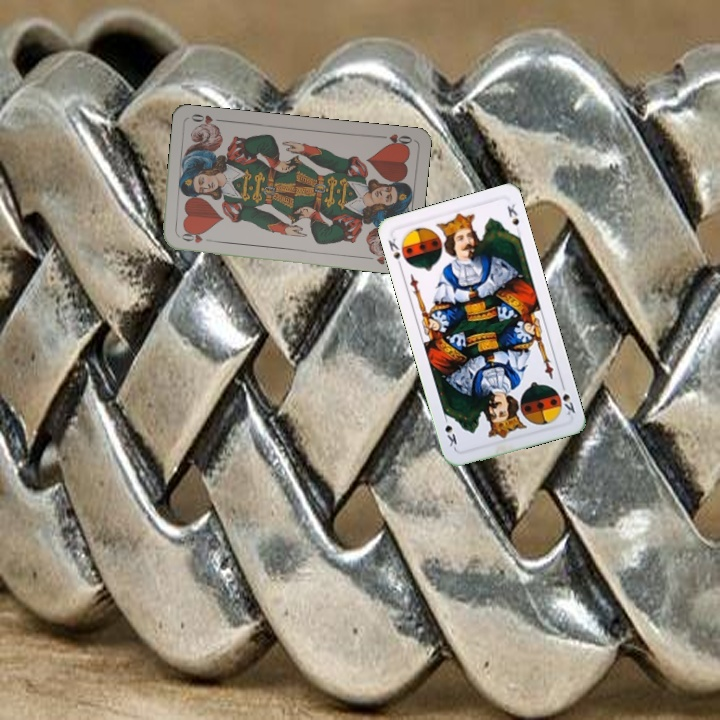HO: (375, 130, 415, 150), (175, 229, 216, 246)
SK: (552, 379, 578, 418), (384, 234, 410, 271)
